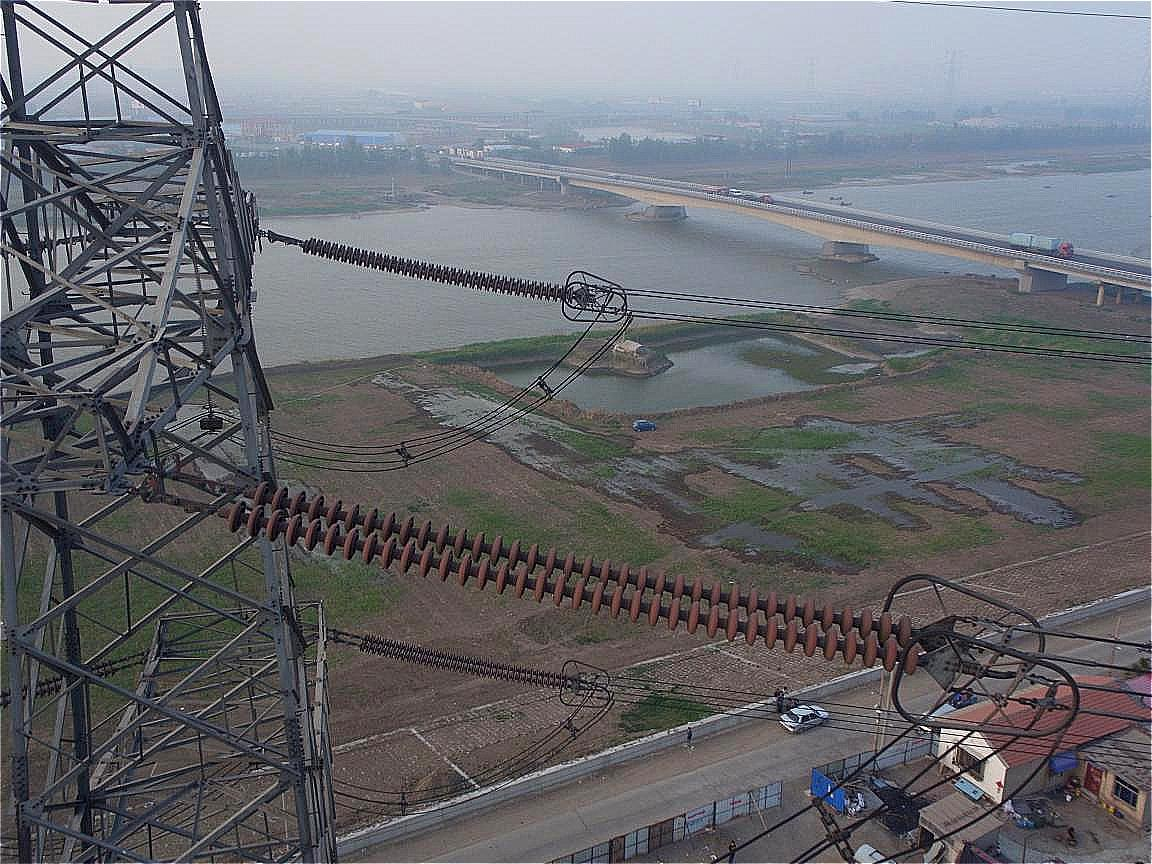insultor1: (210, 484, 953, 685)
insultor2: (297, 229, 585, 306)
